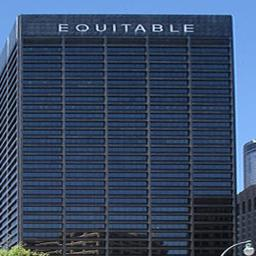building: (13, 7, 234, 256)
